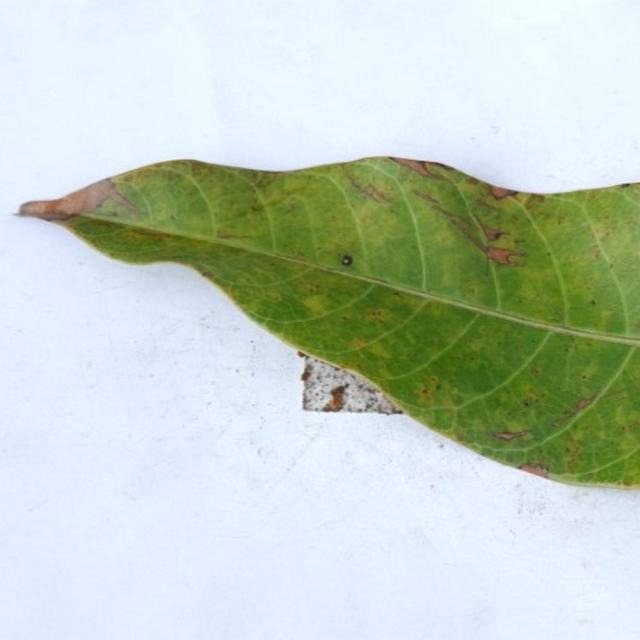Mango: (22, 158, 639, 486)
Powdery_Mildew: (542, 404, 638, 484), (332, 314, 412, 356), (586, 211, 631, 263), (547, 392, 607, 427), (447, 215, 493, 247), (100, 183, 143, 214), (298, 286, 332, 322), (480, 244, 531, 267), (415, 376, 445, 401), (413, 188, 451, 207), (359, 182, 391, 202), (421, 161, 457, 177), (564, 436, 583, 465), (490, 429, 532, 442), (480, 223, 508, 242), (592, 388, 630, 402), (188, 162, 217, 179), (487, 185, 519, 200), (516, 462, 548, 477), (251, 171, 274, 190), (432, 229, 456, 247), (127, 229, 161, 241), (579, 361, 601, 379), (524, 389, 547, 405), (573, 396, 594, 412), (502, 422, 529, 434), (524, 192, 545, 205), (619, 421, 639, 434), (366, 310, 389, 321), (278, 201, 297, 214), (597, 227, 614, 241), (424, 376, 441, 388), (352, 339, 369, 350), (216, 230, 235, 239), (550, 310, 563, 321), (307, 284, 321, 294), (200, 270, 215, 279), (529, 364, 541, 375), (593, 247, 603, 260), (250, 204, 263, 213), (293, 250, 306, 258), (468, 286, 478, 296), (106, 210, 120, 217), (392, 291, 404, 299), (622, 182, 633, 188), (421, 388, 429, 396), (522, 400, 531, 407), (635, 318, 640, 328), (170, 214, 177, 221), (590, 299, 597, 305), (581, 374, 588, 380)
